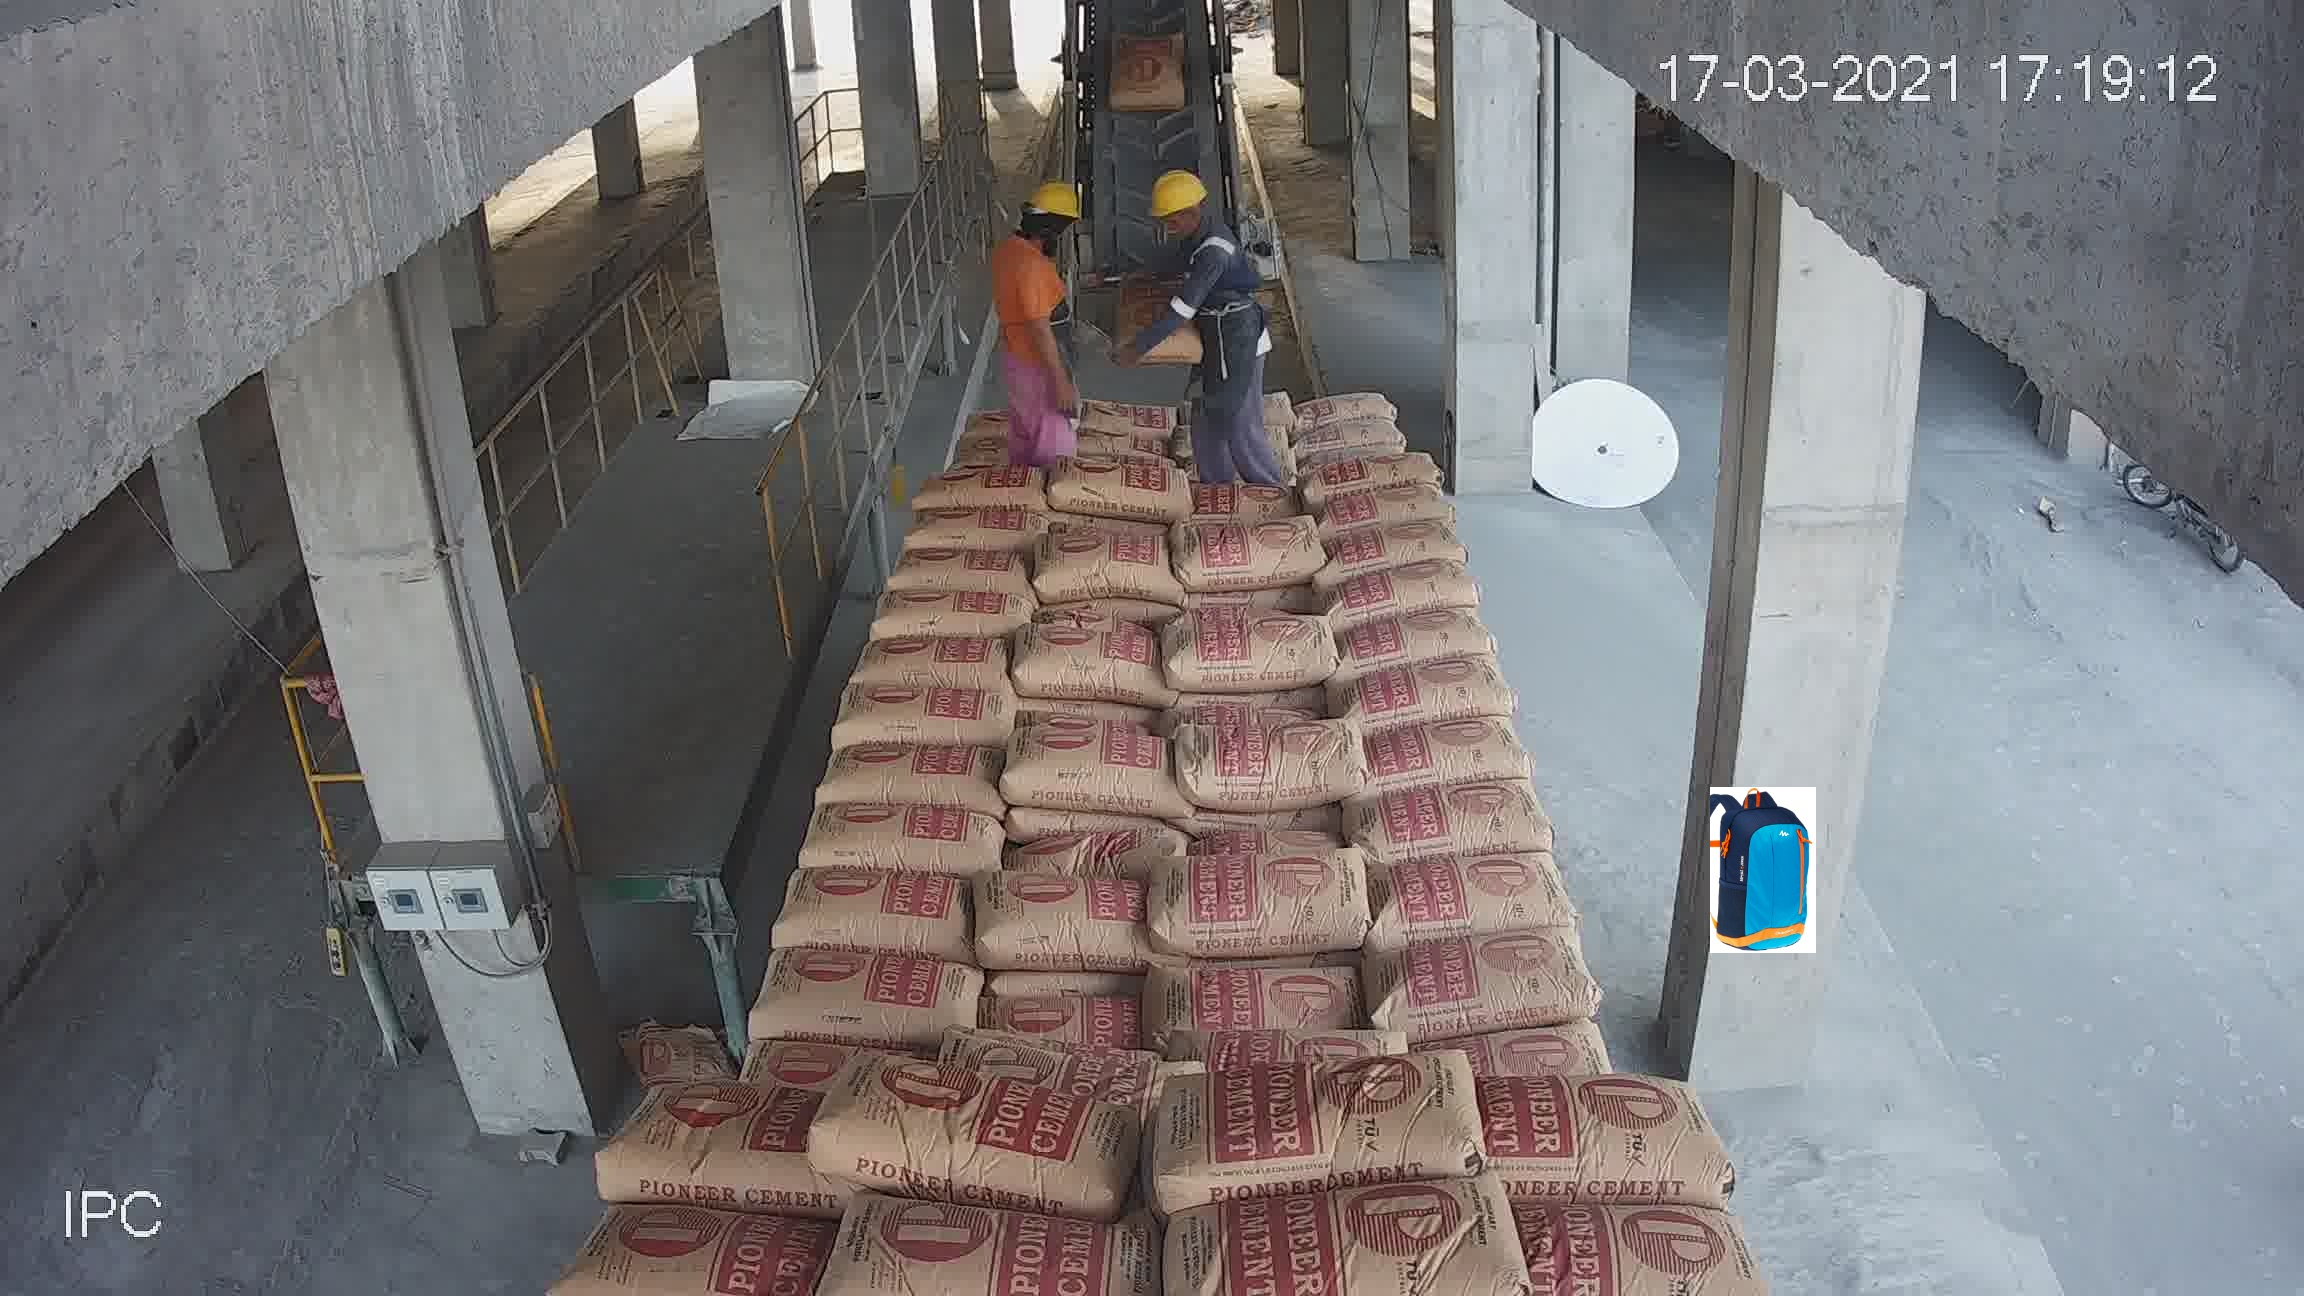bag: (1112, 36, 1188, 120)
bag_h: (1131, 1043, 1478, 1201), (801, 1065, 1139, 1211), (1169, 1176, 1514, 1293), (834, 1188, 1152, 1296), (1348, 916, 1601, 1041), (1491, 1082, 1720, 1206), (1135, 843, 1372, 957), (601, 1079, 799, 1204), (1511, 1201, 1764, 1294), (729, 957, 1002, 1038), (1377, 843, 1560, 946), (555, 1214, 812, 1287), (1358, 783, 1552, 877), (1169, 715, 1367, 805), (809, 796, 1006, 877), (989, 873, 1143, 976), (1165, 608, 1339, 696), (1340, 652, 1519, 737), (764, 870, 970, 943), (1438, 1008, 1622, 1089), (999, 729, 1173, 813), (1161, 961, 1358, 1033), (1334, 604, 1503, 688), (820, 733, 1005, 809), (1370, 709, 1533, 794), (1185, 1014, 1397, 1078), (813, 687, 1014, 753), (1006, 617, 1154, 707), (935, 1048, 1192, 1097), (1025, 524, 1176, 604), (1324, 548, 1473, 623), (1173, 513, 1320, 587), (968, 986, 1135, 1051), (847, 630, 1013, 690), (866, 590, 1024, 650), (1048, 457, 1196, 521), (1324, 505, 1456, 574), (1003, 820, 1177, 872), (883, 543, 1032, 601), (1184, 462, 1298, 533), (904, 456, 1044, 511), (1309, 437, 1434, 498), (891, 502, 1040, 552), (1320, 476, 1453, 529), (1301, 378, 1402, 432), (1060, 386, 1188, 427), (1071, 416, 1185, 457), (1301, 407, 1412, 445)
belt: (1052, 19, 1260, 337)
